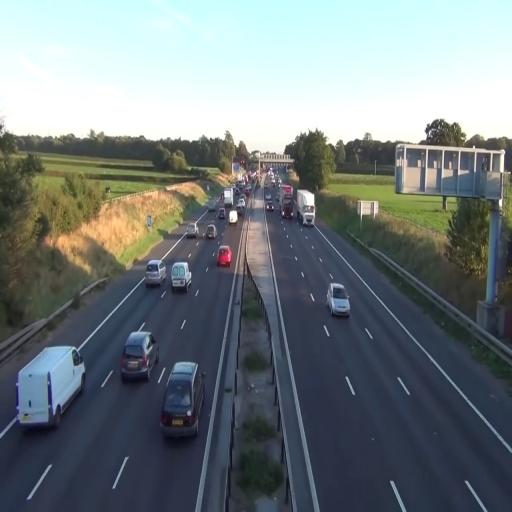vehicle: (17, 345, 86, 429), (160, 360, 204, 441), (120, 329, 158, 382), (327, 281, 350, 318), (296, 188, 316, 227), (171, 261, 192, 293), (196, 216, 218, 241), (145, 261, 165, 288), (216, 244, 232, 270), (199, 222, 218, 241), (204, 223, 218, 241), (280, 201, 294, 219)
